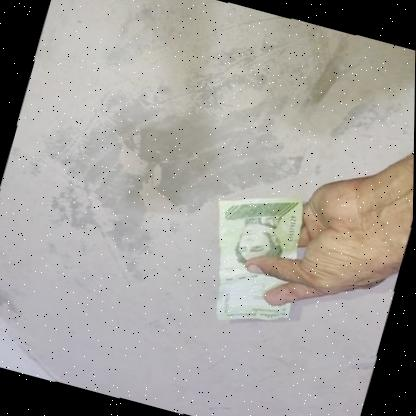fifty-front-vef: (187, 176, 323, 338)
